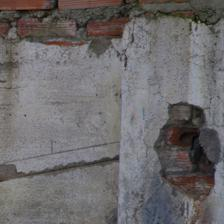Crack: (4, 63, 116, 156), (43, 0, 162, 50), (37, 21, 144, 49)
